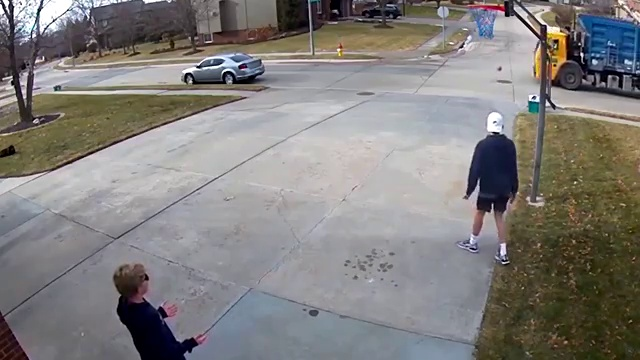face: (131, 271, 151, 292)
